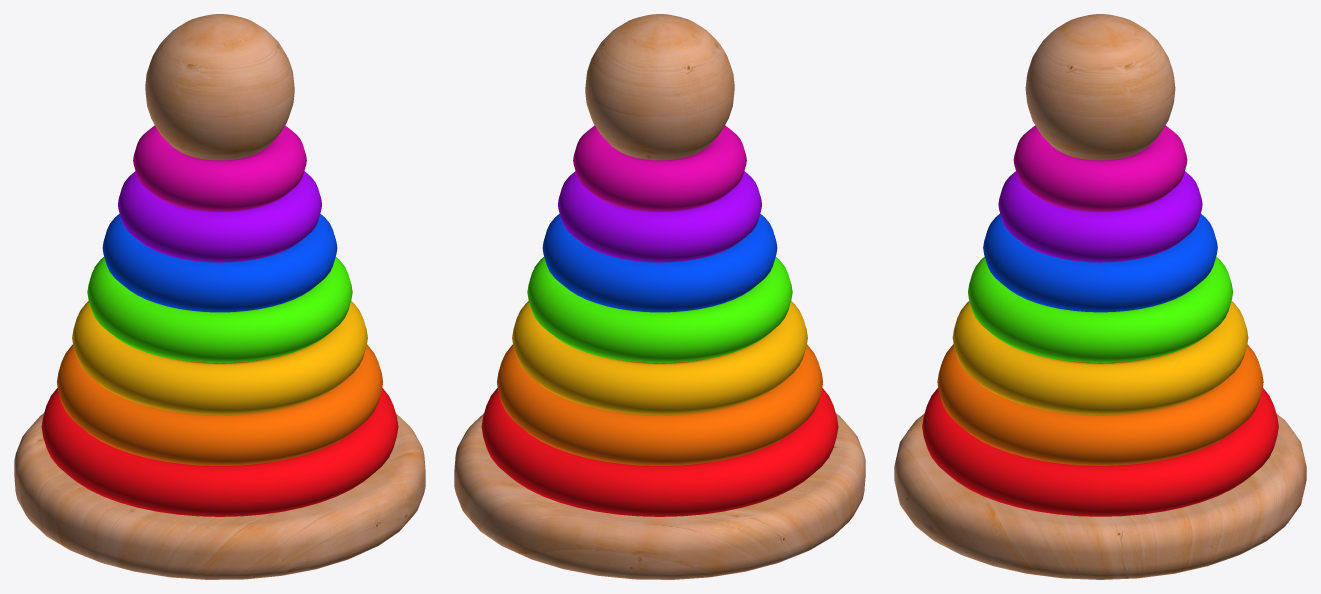
The model's file is baby_toy4.fbx.
The picture shows the model from 3 angles, left to right: view 1: azimuth 30°, elevation 25°; view 2: azimuth 150°, elevation 25°; view 3: azimuth 270°, elevation 25°; orthographic projection.
Parts seen in each view (by area): view 1: Torus.014; view 2: Torus.014; view 3: Torus.014.
Boxes of the visible parts, box(x1,y1,x2,y2) form: Torus.014: box(14, 14, 425, 579); Torus.014: box(454, 14, 865, 579); Torus.014: box(894, 14, 1306, 579).
Size of the model in its own units: 27.03 by 34.67 by 27.03.
